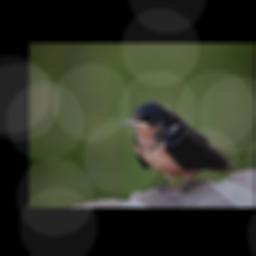Swallow: (124, 100, 236, 195)
